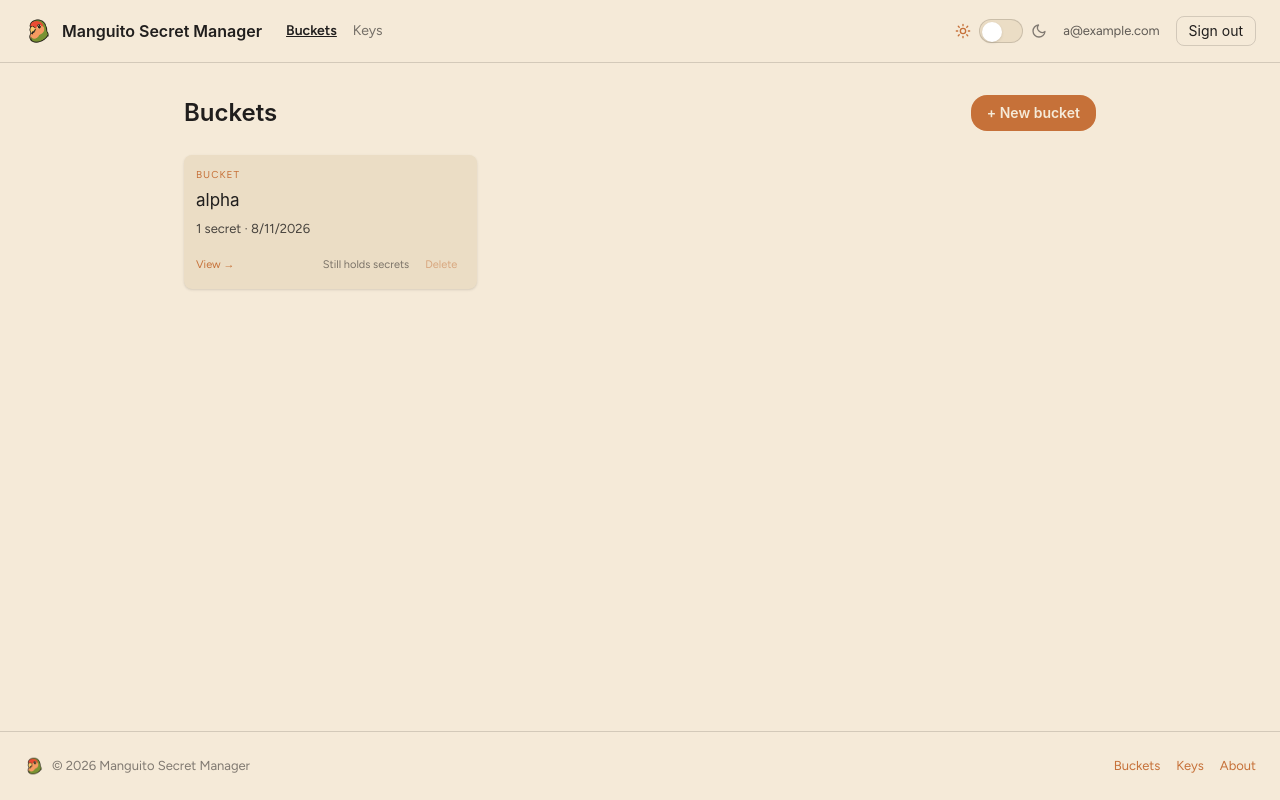
it: walks from the bucket list into a bucket
Click the link "alpha" at (218,200), box [196, 190, 240, 210]
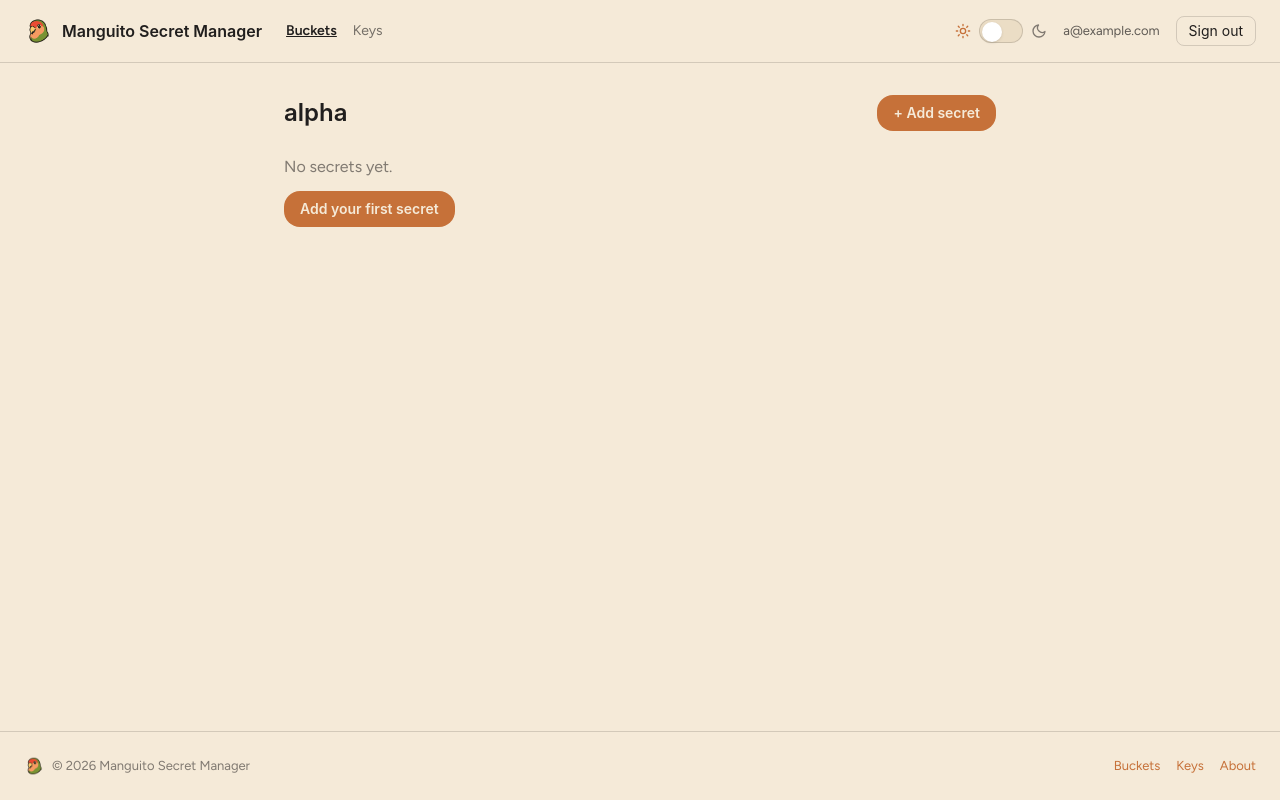
Result: the heading "alpha" is shown at [284, 97, 348, 129]
